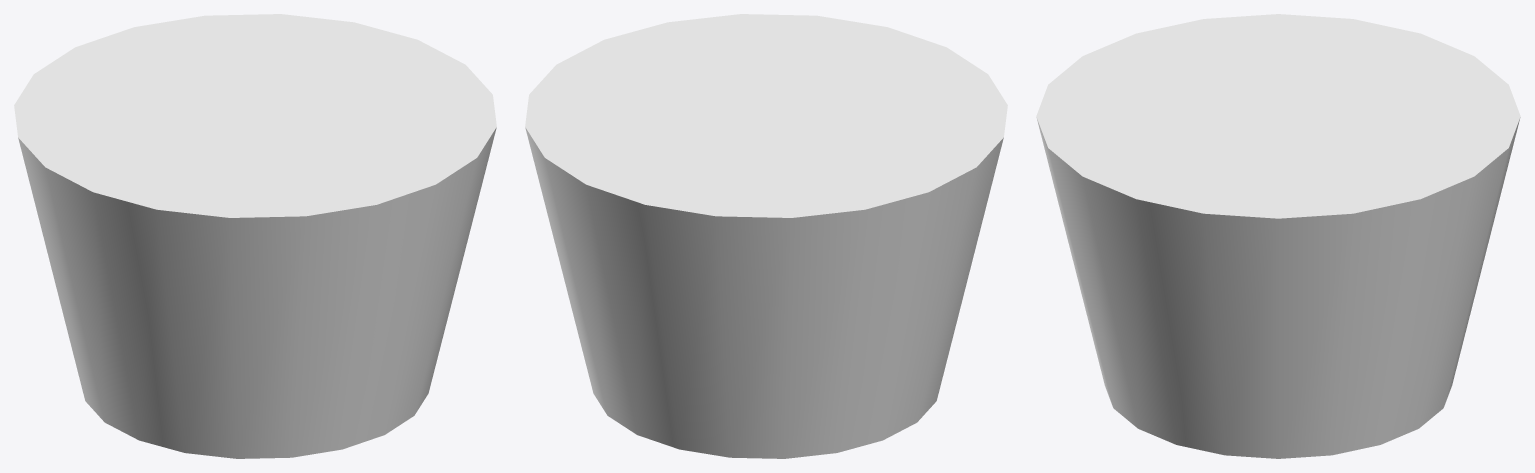
The model's file is red.obj.
The picture shows the model from 3 angles, left to right: view 1: azimuth 30°, elevation 25°; view 2: azimuth 150°, elevation 25°; view 3: azimuth 270°, elevation 25°; orthographic projection.
Visible parts, largest first — view 1: polySurface70 pPrism9; view 2: polySurface70 pPrism9; view 3: polySurface70 pPrism9.
Boxes of the visible parts, x1=… form: polySurface70 pPrism9: x1=14, y1=14, x2=496, y2=458; polySurface70 pPrism9: x1=525, y1=14, x2=1007, y2=458; polySurface70 pPrism9: x1=1036, y1=14, x2=1520, y2=458.
Size of the model in its own units: 2.56 by 1.57 by 2.56.
Materials: 1 (1 with a texture image).
